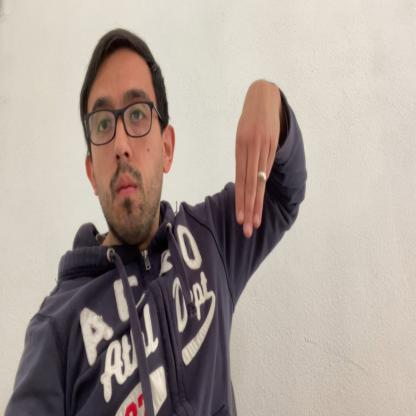M: (235, 79, 281, 237)
